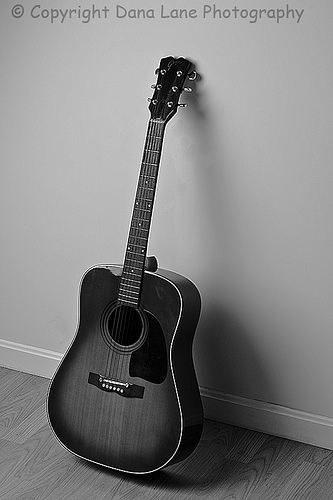guitar: (45, 53, 207, 475)
